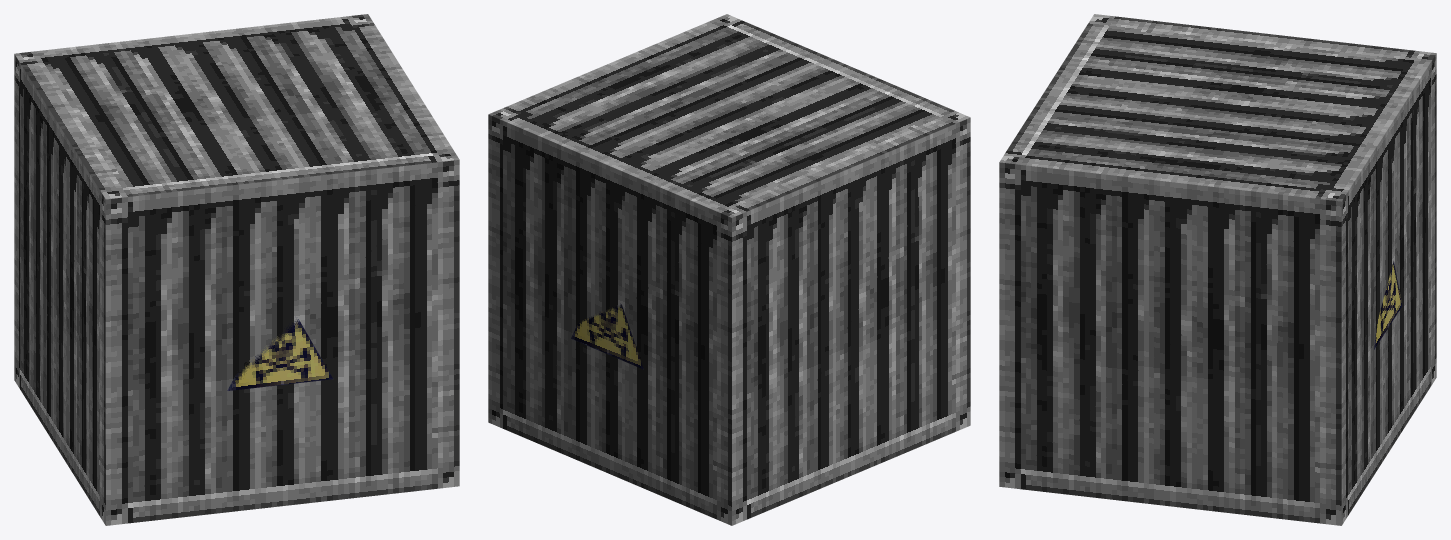
File: primary_169.glb
3 views of the same model, side by side, from view 1: azimuth 30°, elevation 25°; view 2: azimuth 150°, elevation 25°; view 3: azimuth 270°, elevation 25° (orthographic). The views are drawn at different scales.
Parts seen in each view (by area): view 1: Object; view 2: Object; view 3: Object.
Boxes of the visible parts, x1,y1,x2,y2 form: Object: [14, 14, 459, 525]; Object: [488, 14, 970, 525]; Object: [999, 14, 1436, 525].
Bounding box in the file's own units: 1.68 × 1.36 × 1.66.
2 materials, 2 textured.
